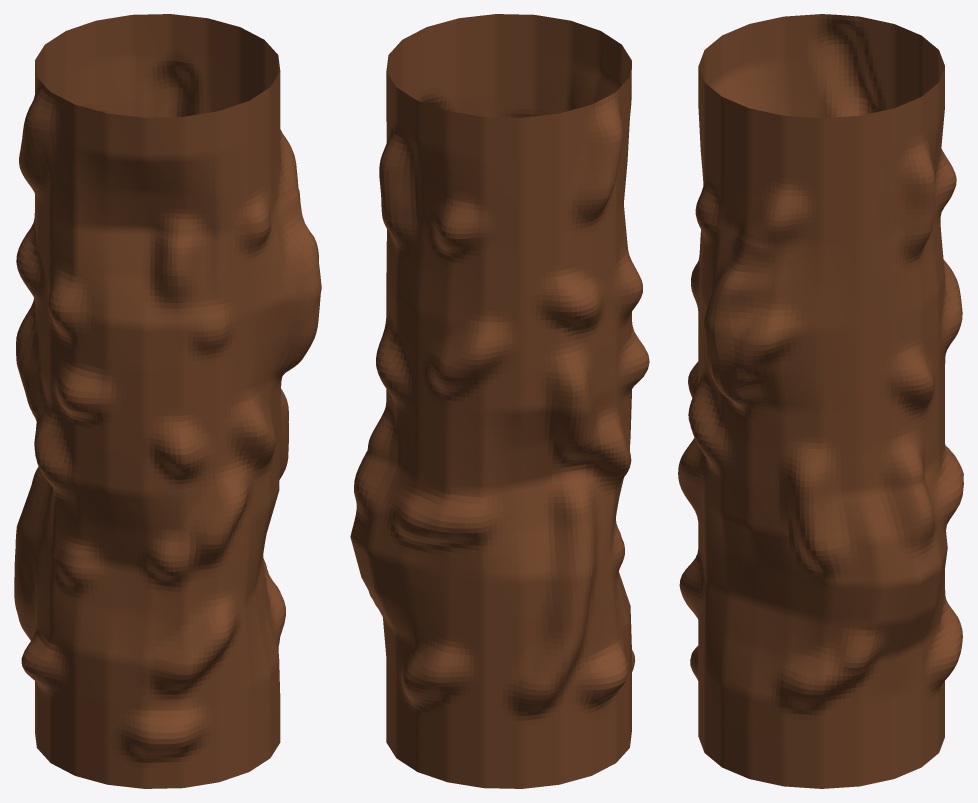
Rendered from structure_columnlarge.fbx.
3 renders of one model, left to right at view 1: azimuth 30°, elevation 25°; view 2: azimuth 150°, elevation 25°; view 3: azimuth 270°, elevation 25°, orthographic.
Visible parts, largest first — view 1: columnlarge_LOD0; view 2: columnlarge_LOD0; view 3: columnlarge_LOD0.
Part boxes in pixels (bbox=[...]): columnlarge_LOD0: bbox=[14, 14, 321, 788]; columnlarge_LOD0: bbox=[350, 14, 649, 788]; columnlarge_LOD0: bbox=[678, 14, 963, 788].
Size of what is drawn, in the model's own units: 118 by 300 by 116.
Materials: 1 (1 with a texture image).
